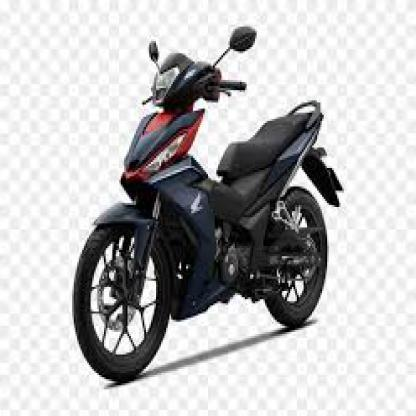Motorcycle: (67, 25, 346, 383)
